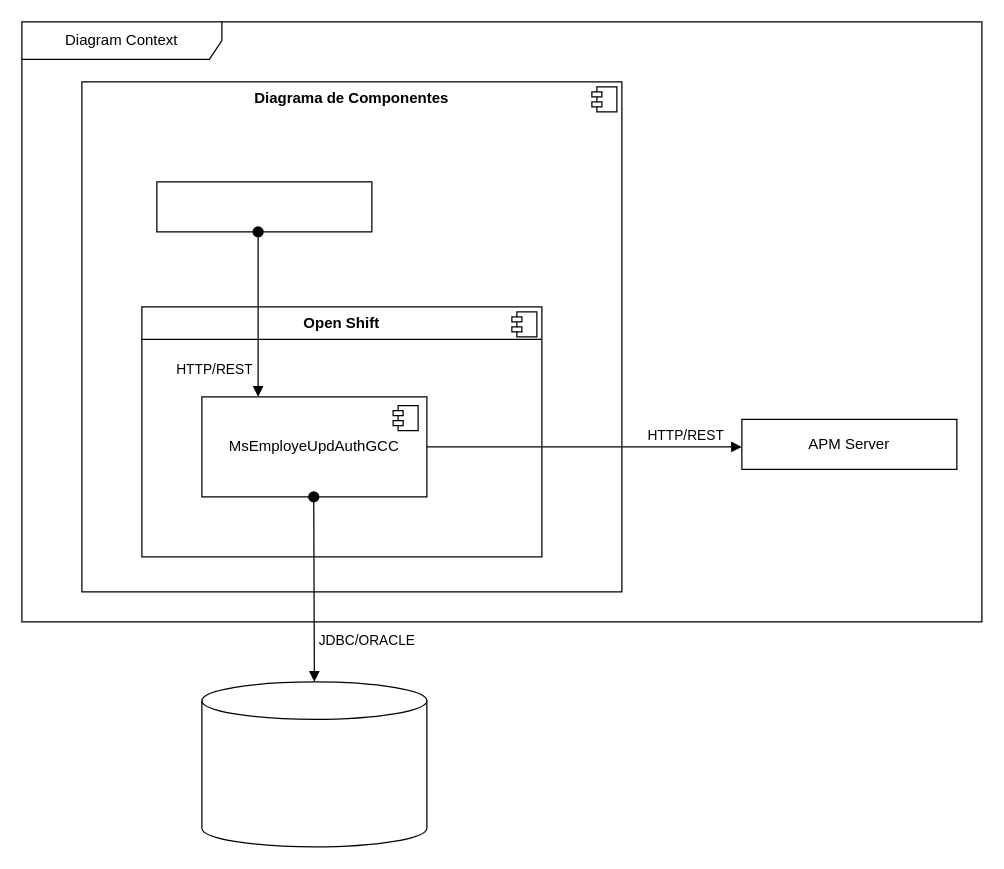
The diagram is 1004 pixels wide and 869 high, and some of its shapes have lost their labels. The shapes that lost their labels are listed below. From the top down, each one's centre as x and y in pixels, then its label:
the point at 264,206: APIMEmployeUpdAuthGCC
the point at 314,764: OCI - CUSGATEFINREGISTER SP PKGSVCACCEPTTRX.PRCSVCUPDACCEPTTRX
